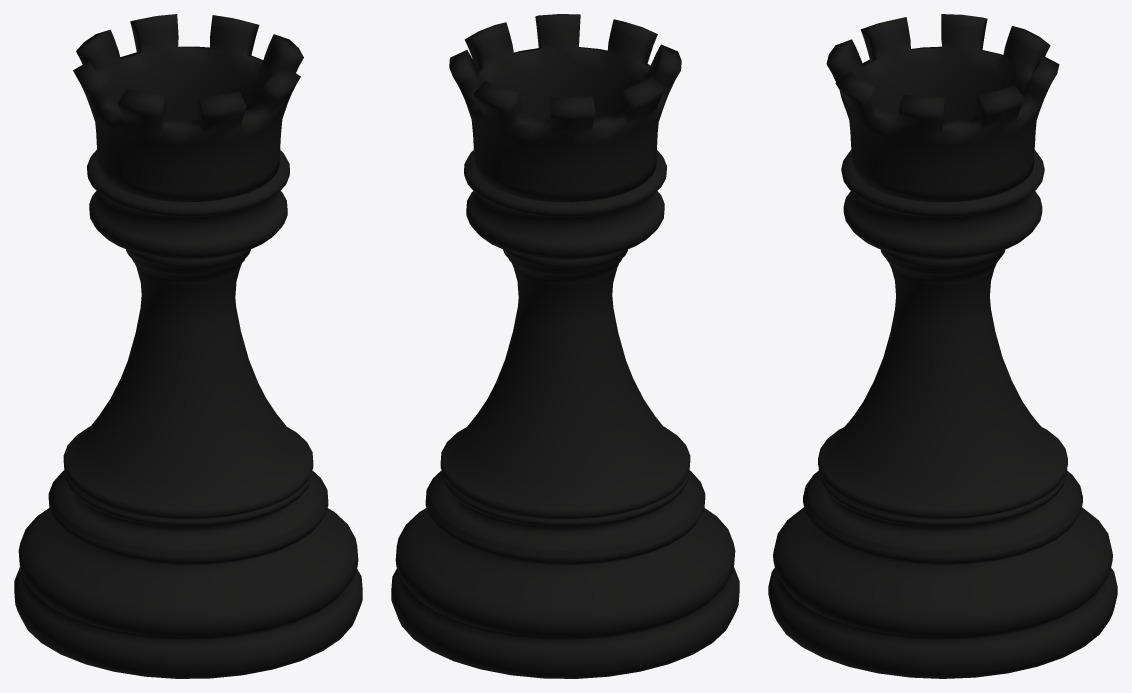
File: Rook.fbx
3 views of the same model, side by side, from view 1: azimuth 30°, elevation 25°; view 2: azimuth 150°, elevation 25°; view 3: azimuth 270°, elevation 25° (orthographic).
Parts seen in each view (by area): view 1: R Body; view 2: R Body; view 3: R Body.
Boxes of the visible parts, x1=… form: R Body: x1=14, y1=14, x2=362, y2=678; R Body: x1=391, y1=14, x2=739, y2=678; R Body: x1=768, y1=14, x2=1117, y2=678.
Bounding box in the file's own units: 231 × 231 × 404.
